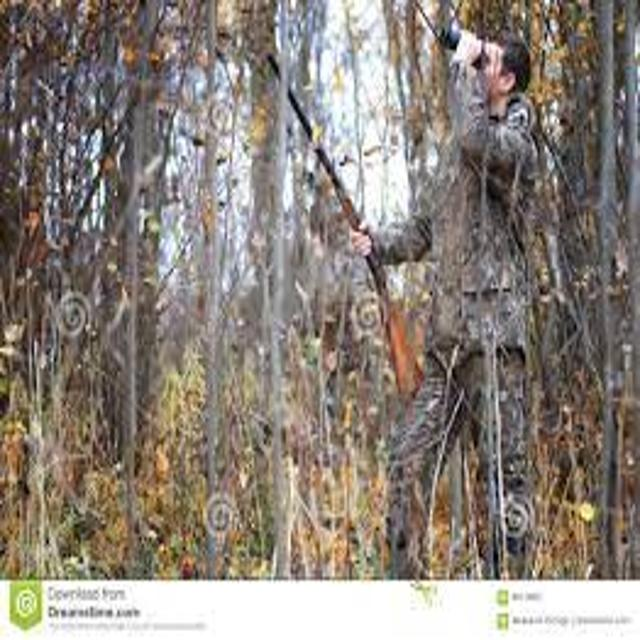gun: (247, 36, 442, 430)
poacher: (335, 10, 596, 579)
